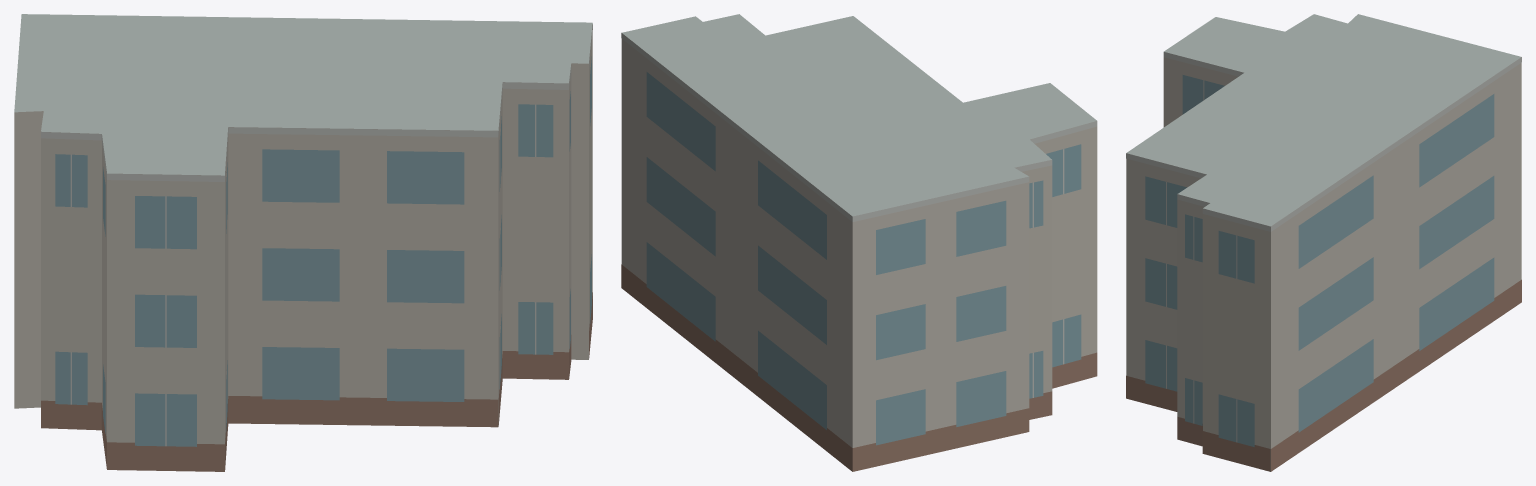
File: survey-upis-32498837.glb
3 renders of one model, left to right at view 1: azimuth 30°, elevation 25°; view 2: azimuth 150°, elevation 25°; view 3: azimuth 270°, elevation 25°, orthographic. The views are drawn at different scales.
Visible parts, largest first — view 1: survey-upis-32498837.tmp; view 2: survey-upis-32498837.tmp; view 3: survey-upis-32498837.tmp.
Part boxes in pixels (x1,y1,x2,y2): survey-upis-32498837.tmp: (14, 14, 592, 471); survey-upis-32498837.tmp: (621, 14, 1097, 471); survey-upis-32498837.tmp: (1126, 14, 1521, 471).
Bounding box in the file's own units: 20.43 × 11 × 16.08.
